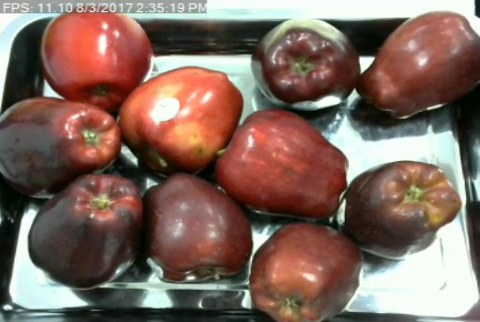Apple: (213, 104, 352, 221), (22, 170, 148, 292), (115, 65, 244, 177), (139, 169, 256, 288), (357, 9, 480, 120), (0, 93, 124, 197), (245, 219, 367, 322), (340, 159, 463, 260), (37, 6, 156, 110), (250, 12, 365, 112)
